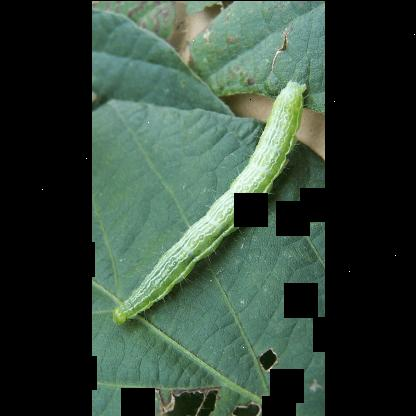agujero: (145, 384, 223, 416), (254, 343, 278, 370), (232, 400, 264, 416)
oruga: (181, 52, 243, 362)
